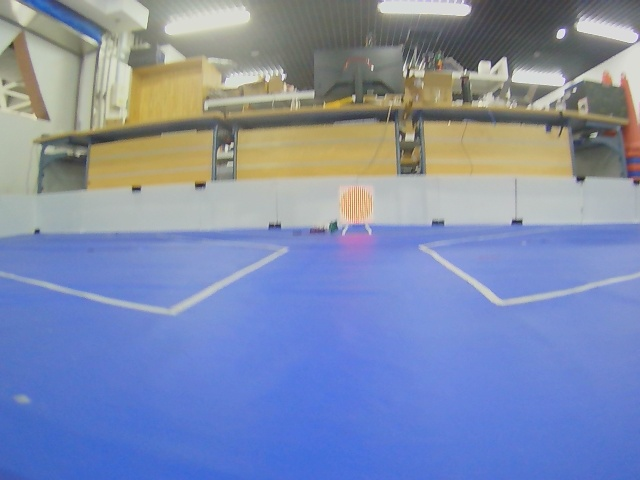red: (339, 185, 373, 226)
